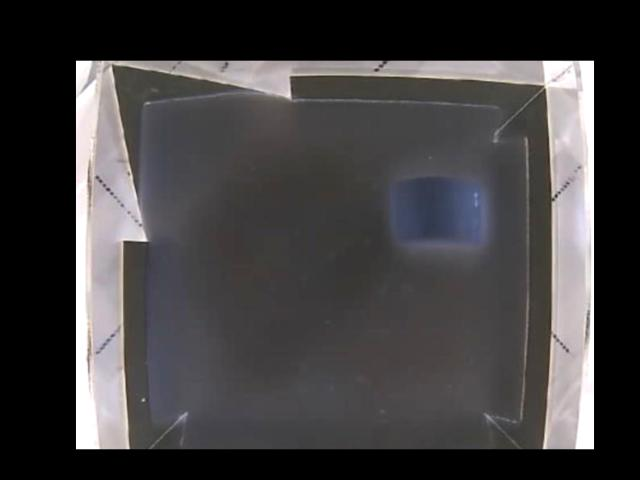Mooli: (390, 175, 484, 250)
